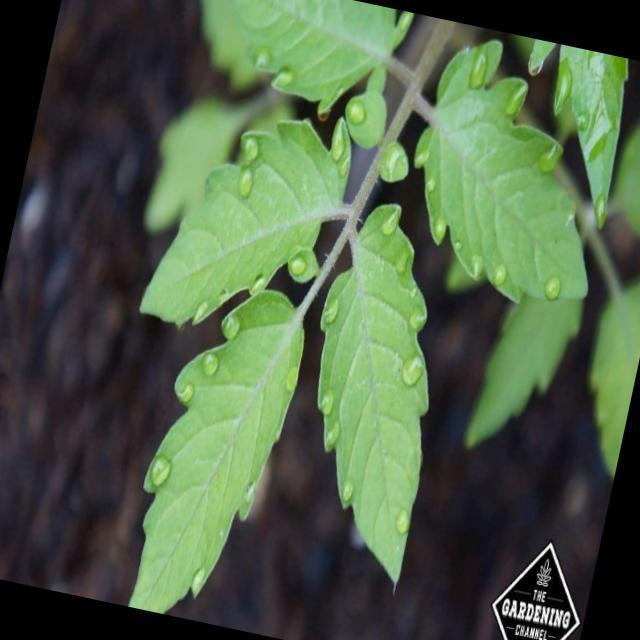Healthy Leaf: (271, 193, 484, 590), (391, 19, 640, 323), (118, 264, 315, 630), (136, 89, 370, 352), (336, 85, 391, 148), (376, 133, 414, 190)
